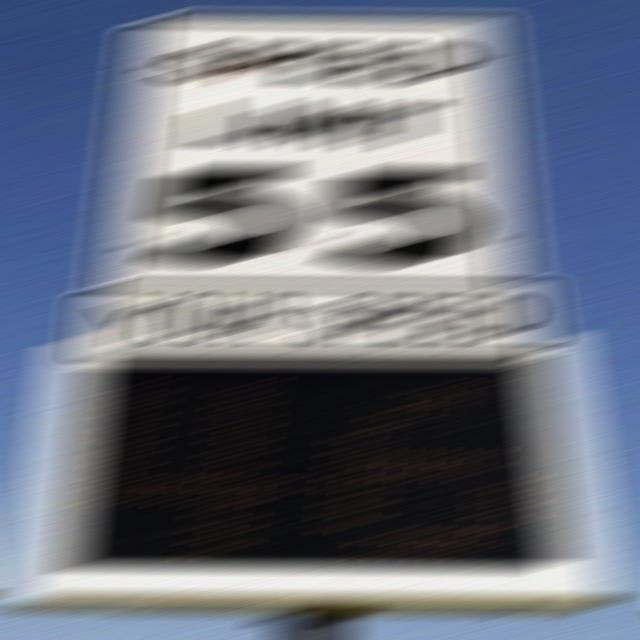speedLimit55: (122, 18, 532, 277)
